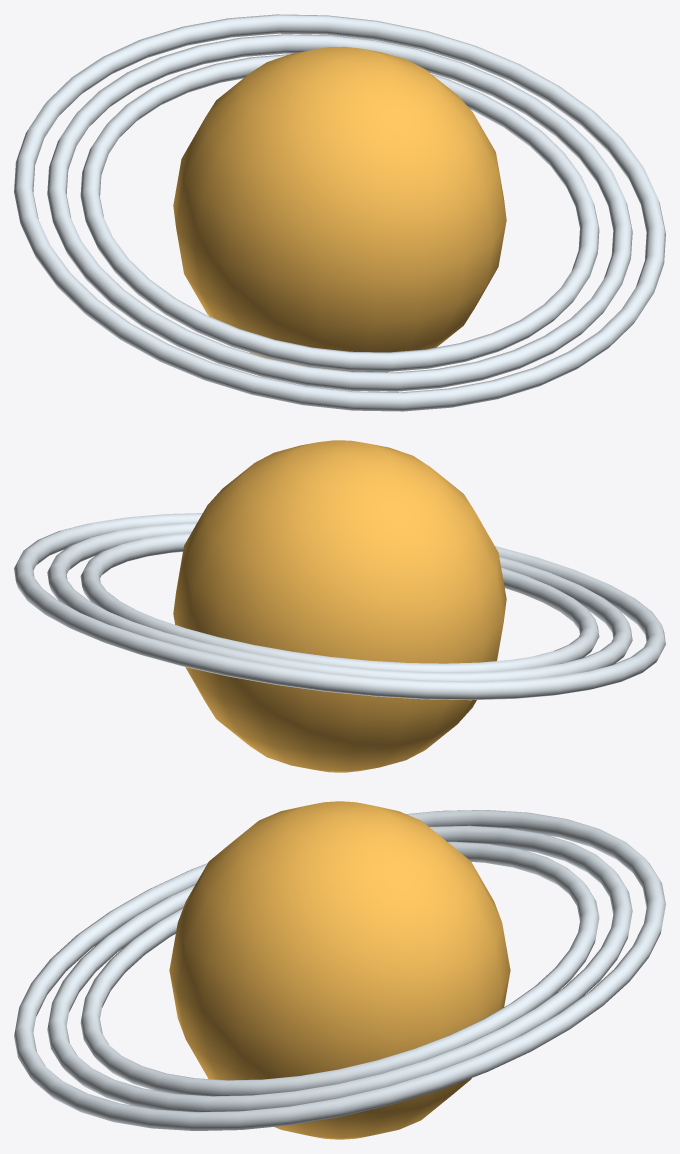
File: ringed-planet-lite.glb
3 renders of one model, top to bottom at view 1: azimuth 30°, elevation 25°; view 2: azimuth 150°, elevation 25°; view 3: azimuth 270°, elevation 25°, orthographic.
Visible parts, largest first — view 1: Planet; view 2: Planet; view 3: Planet.
Boxes of the visible parts, box(x1,y1,x2,y2) form: Planet: box(14, 14, 665, 411); Planet: box(14, 440, 665, 772); Planet: box(14, 801, 665, 1139).
Size of the model in its own units: 2.35 by 1.2 by 2.29.
